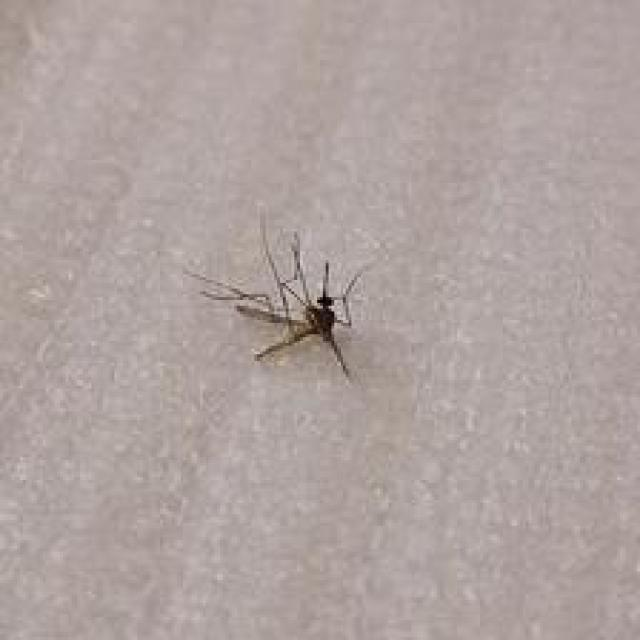Culex: (186, 209, 374, 380)
